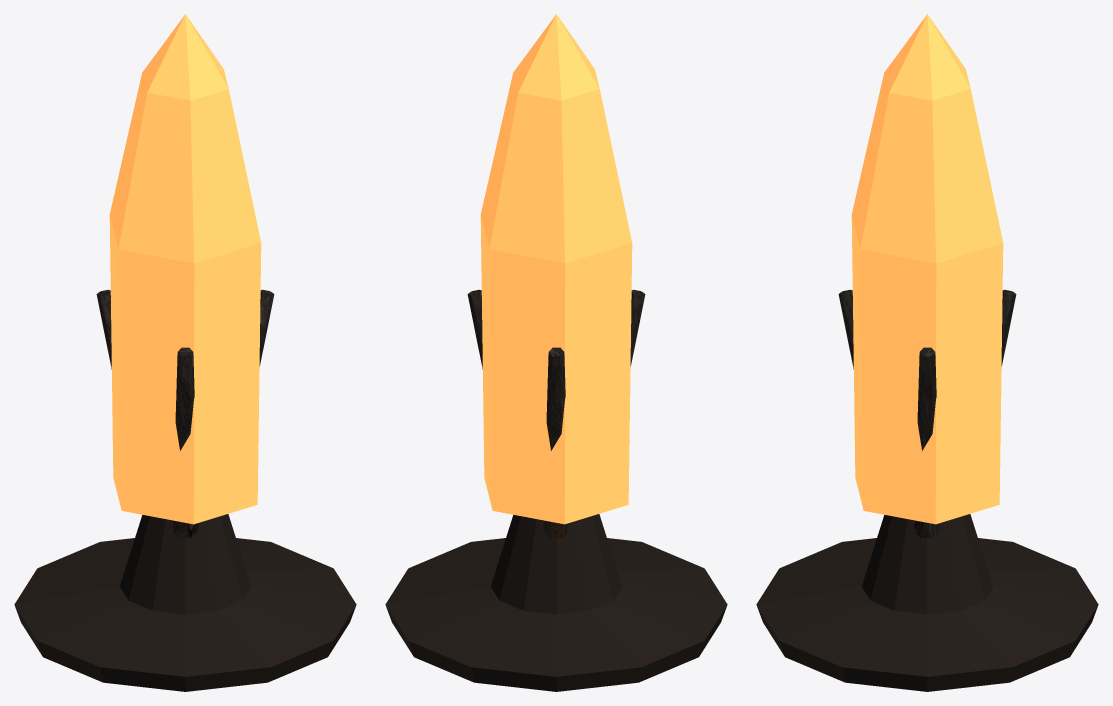
File: refined-ember-shard-v01-photo.glb
3 renders of one model, left to right at view 1: azimuth 30°, elevation 25°; view 2: azimuth 150°, elevation 25°; view 3: azimuth 270°, elevation 25°, orthographic.
Visible parts, largest first — view 1: refined-ember-shard; view 2: refined-ember-shard; view 3: refined-ember-shard.
Boxes of the visible parts, left/top/right/bottom form: refined-ember-shard: left=14, top=14, right=356, bottom=691; refined-ember-shard: left=385, top=14, right=727, bottom=691; refined-ember-shard: left=756, top=14, right=1098, bottom=691.
Bounding box in the file's own units: 0.52 × 1.02 × 0.52.
2 materials, 1 textured.
